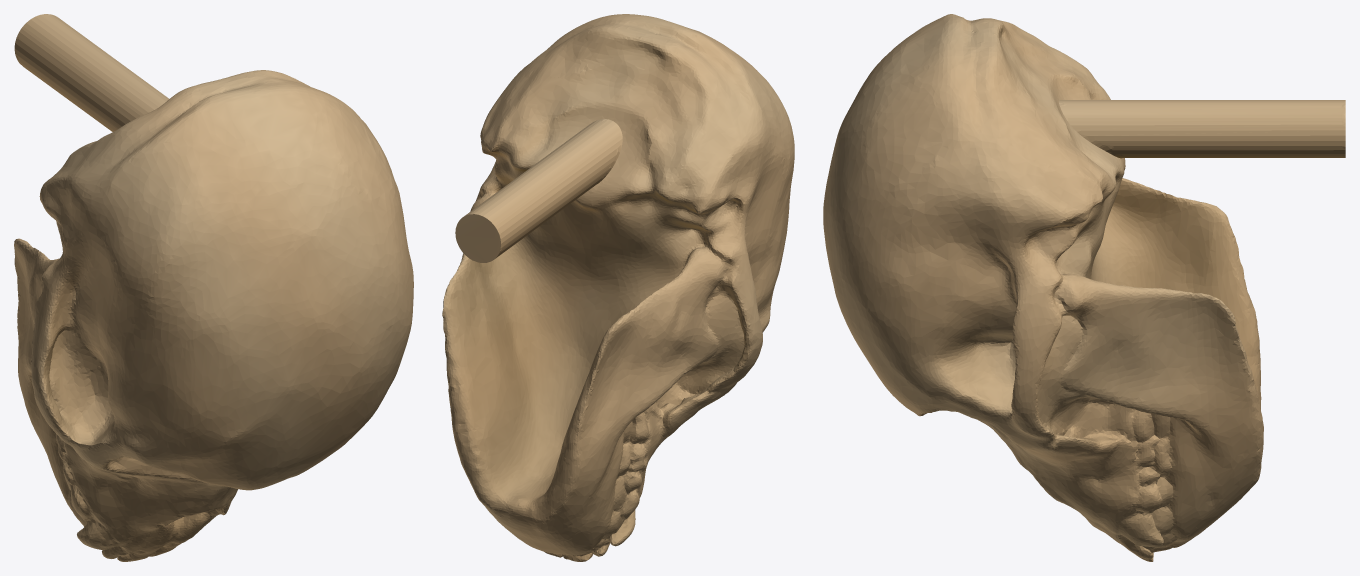
Rendered from proconsul.glb.
3 views of the same model, side by side, from view 1: azimuth 30°, elevation 25°; view 2: azimuth 150°, elevation 25°; view 3: azimuth 270°, elevation 25° (orthographic). The views are drawn at different scales.
Bounding box in the file's own units: 19 × 29.62 × 26.95.
